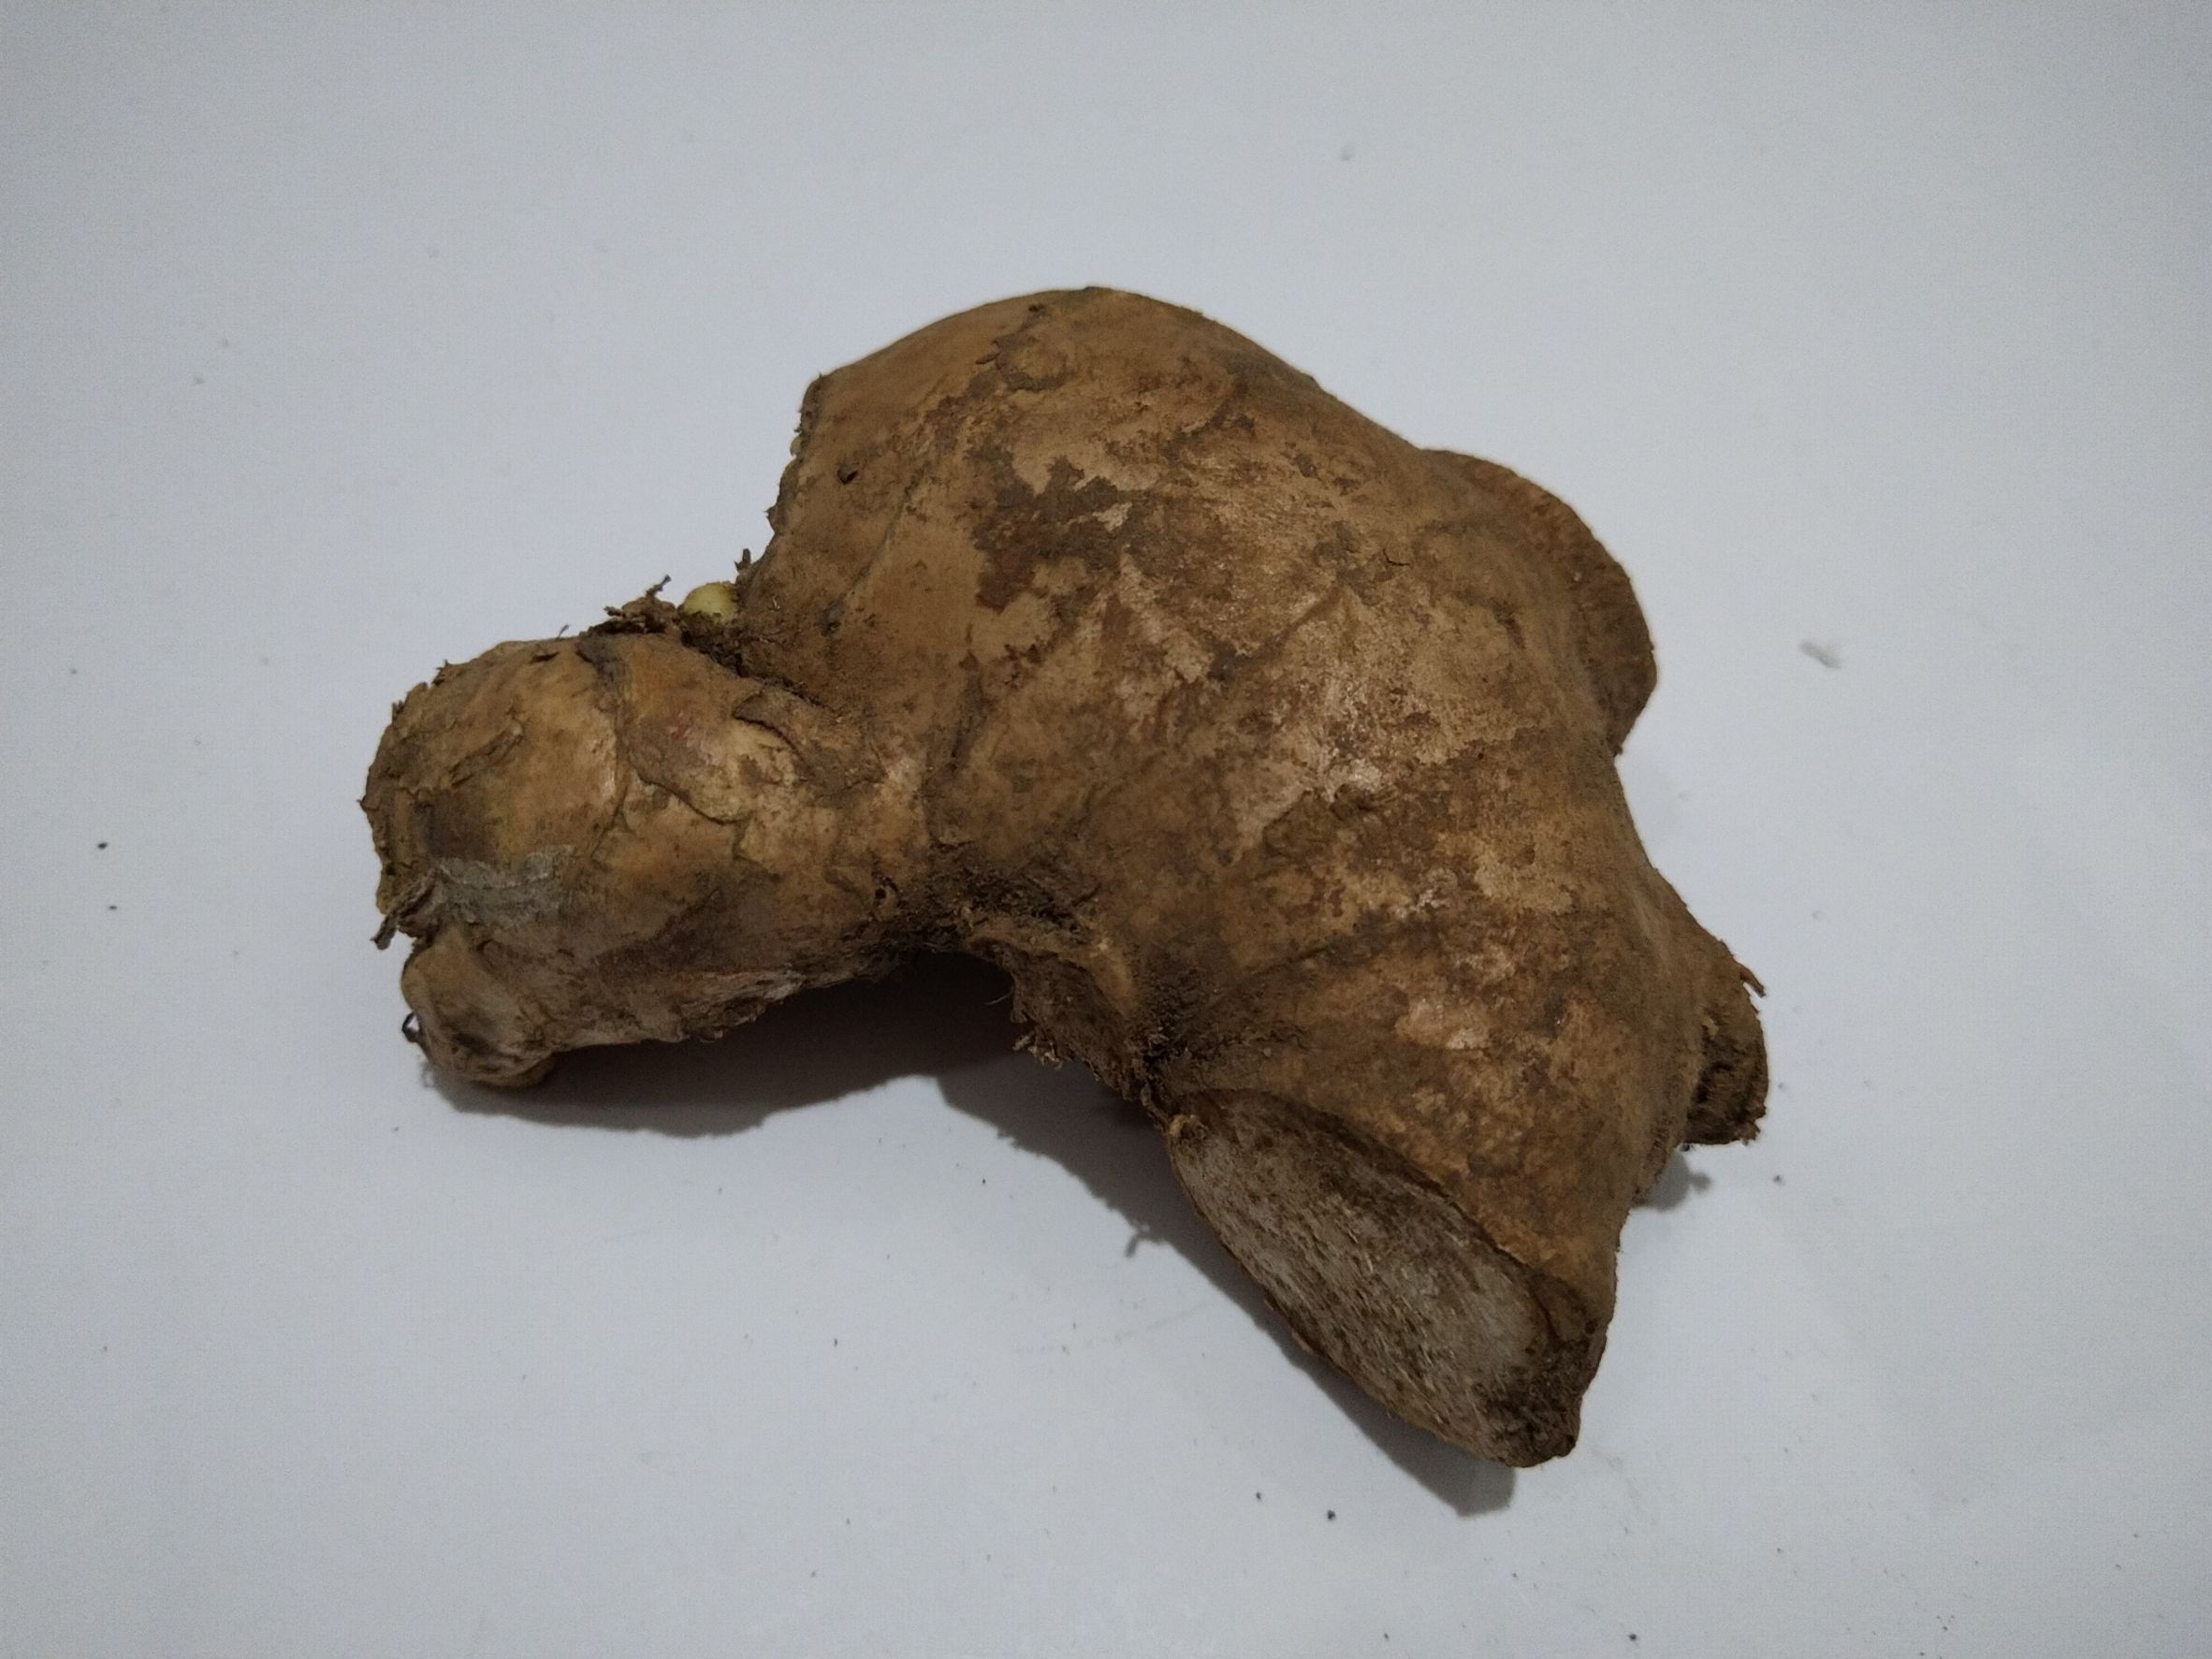Jahe: (401, 293, 1775, 1502)
